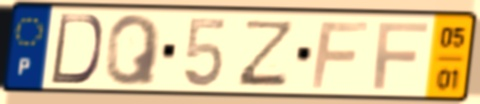5: (181, 15, 229, 89)
D: (47, 12, 105, 87)
F: (308, 19, 372, 90), (371, 20, 431, 92)
Q: (102, 12, 164, 88)
Z: (234, 18, 299, 88)
